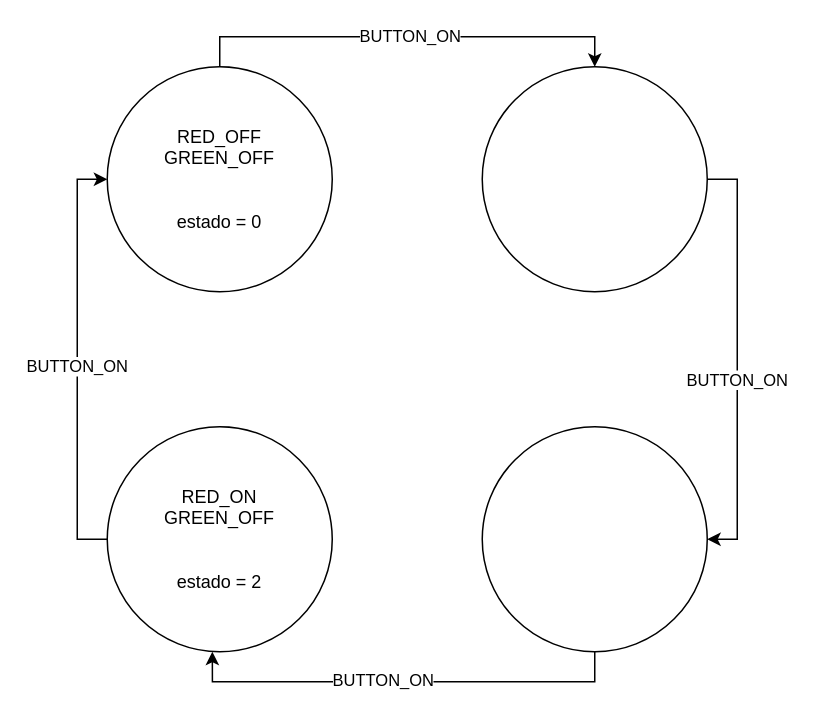
Some shapes in this 813 by 720 pixel diagram are drawn without their labels. The centre of each missing label's shape, as x and y in pixels:
RED_OFF GREEN_ON estado = 1: point (594, 178)
RED_ON GREEN_ON estado = 3: point (594, 538)
